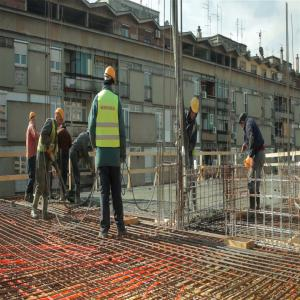none: (240, 112, 248, 130)
yellow: (105, 67, 117, 90), (190, 98, 200, 120), (56, 109, 65, 128), (30, 112, 37, 126)
